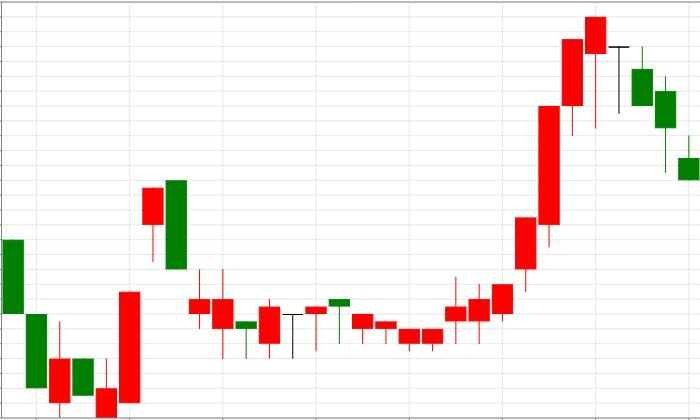bearish_engulfing_fall: (95, 180, 187, 418)
hanging_man_fall: (399, 16, 607, 351)
